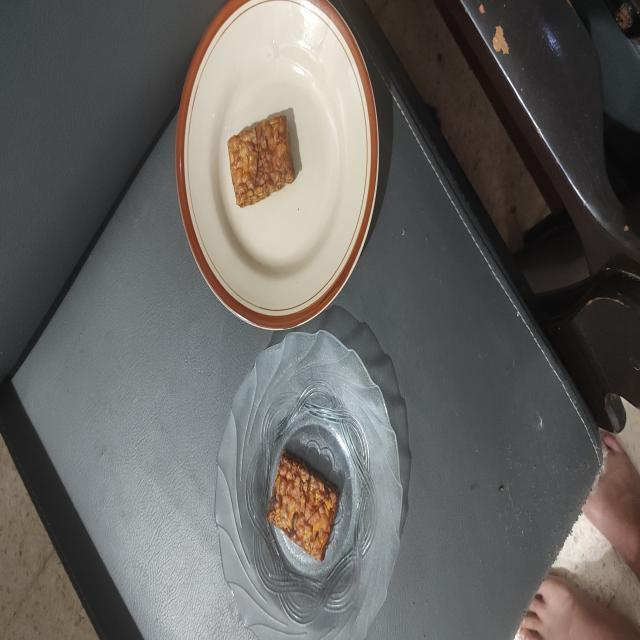tempe_goreng: (266, 450, 338, 560), (228, 116, 295, 207)
